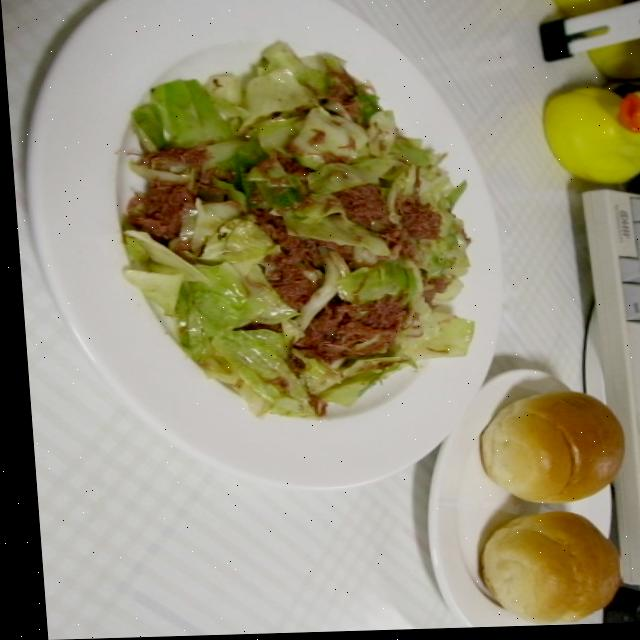蔬菜料理: (102, 17, 497, 423)
